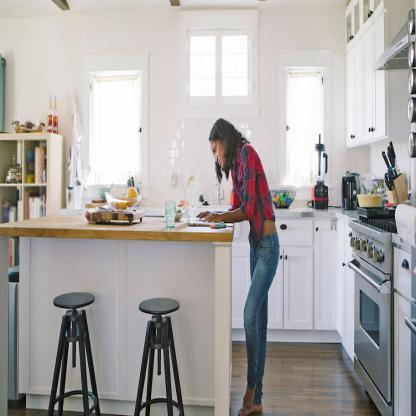chair: (133, 289, 197, 416), (44, 284, 104, 416)
table: (0, 205, 234, 399)
